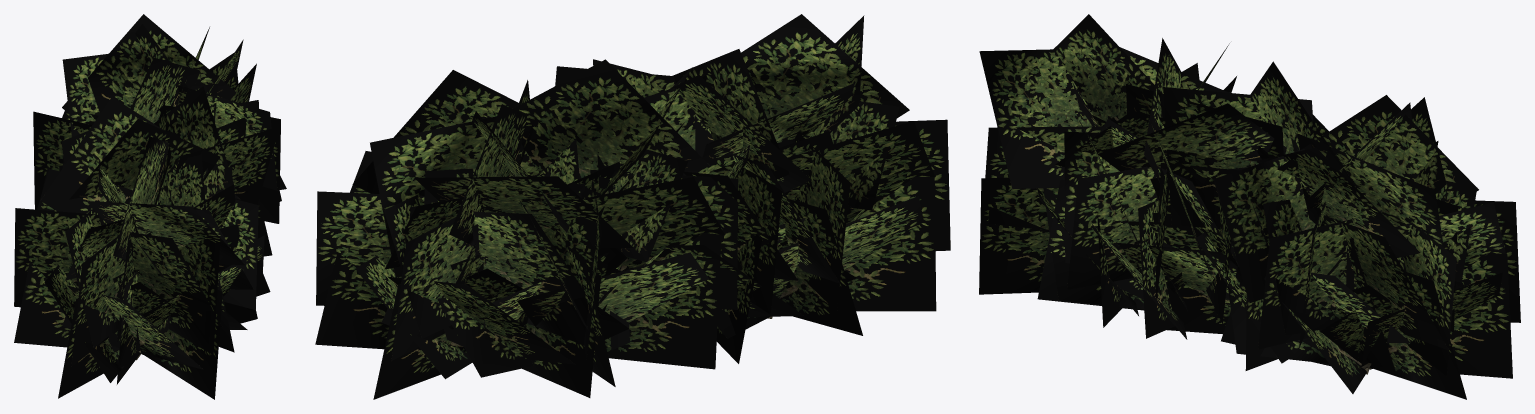
Rendered from bush bush.obj.
3 views of the same model, side by side, from view 1: azimuth 30°, elevation 25°; view 2: azimuth 150°, elevation 25°; view 3: azimuth 270°, elevation 25° (orthographic). The views are drawn at different scales.
Parts seen in each view (by area): view 1: 1; view 2: 1; view 3: 1.
Boxes of the visible parts, x1,y1,x2,y2 form: 1: [14, 14, 286, 399]; 1: [315, 14, 950, 399]; 1: [979, 14, 1520, 399].
Size of the model in its own units: 35.29 by 22.95 by 40.61.
Materials: 1 (1 with a texture image).
